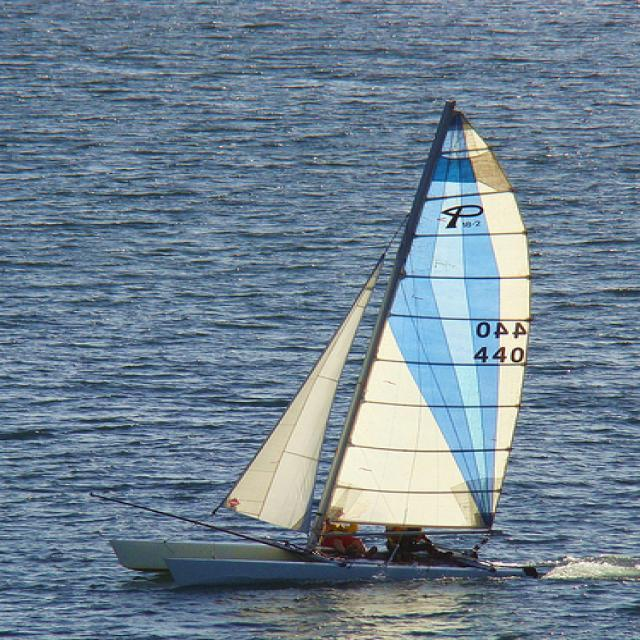Ship: (89, 98, 538, 588)
